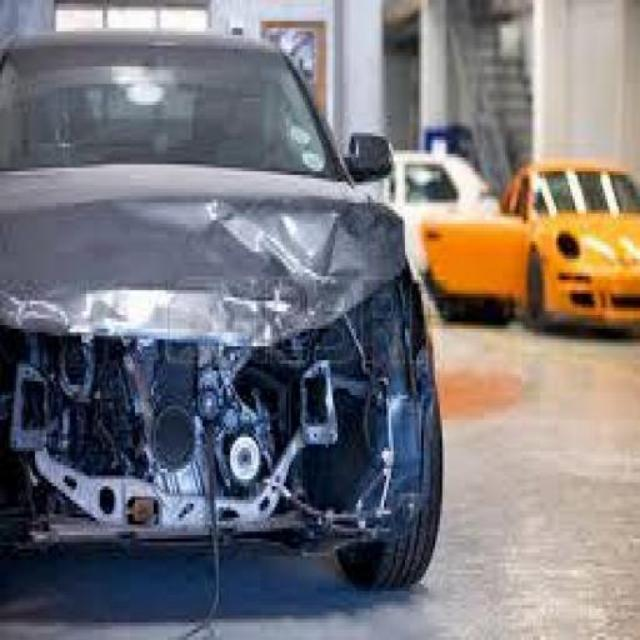no part: (4, 201, 421, 548)
